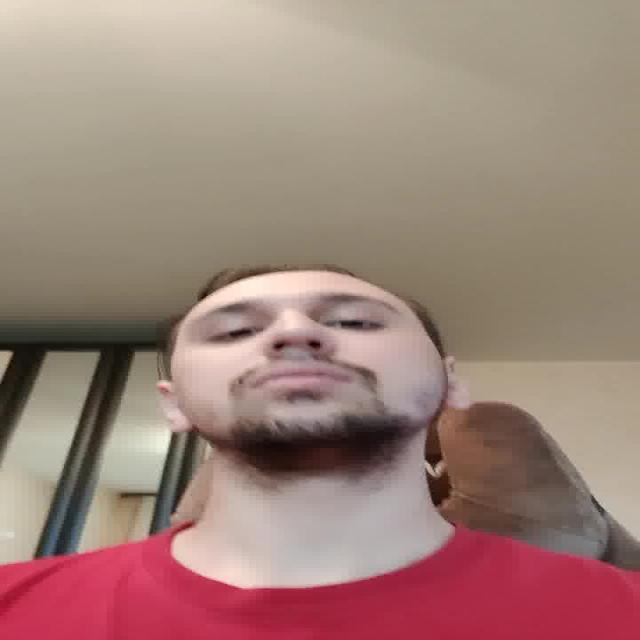earlobe: (158, 382, 198, 434), (441, 358, 474, 410)
